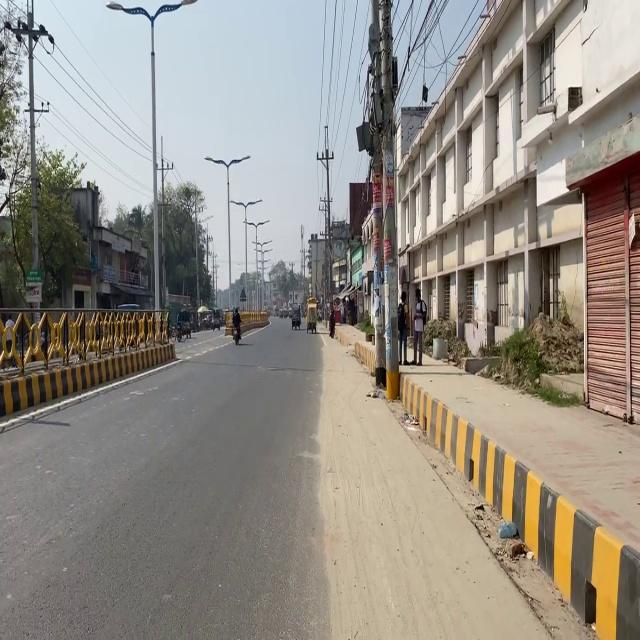Construction-barrier: (460, 422, 624, 600)
Fallen-tree: (174, 321, 184, 342), (290, 316, 301, 330), (306, 319, 316, 333)
Garbage-bin: (409, 288, 427, 365), (397, 291, 409, 365), (231, 307, 242, 344)
Light-pole: (358, 10, 418, 390)
Pole: (2, 292, 172, 428)
Pothole: (359, 321, 640, 640)
Traffic-cone: (304, 296, 318, 333)
